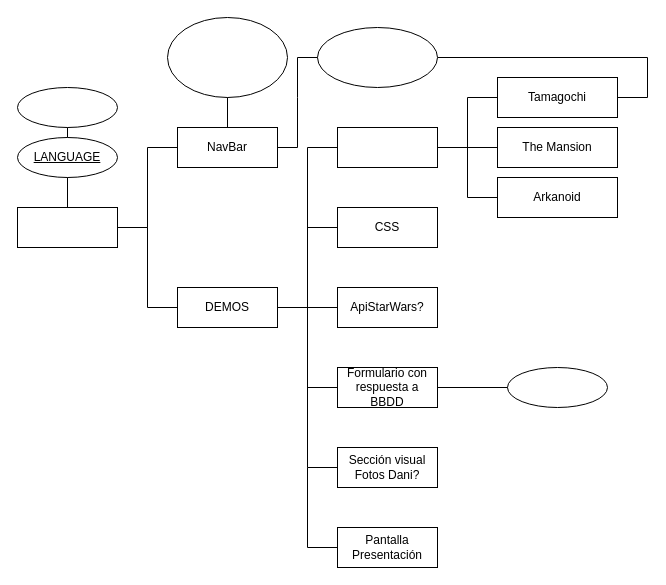
This 666x585 diagram has some shape labels left out. The centre of each missing label's shape, as x and y in pixels:
"conexión con BBDD" belongs at point 557,387.
"Iniciar Sesión y mostrar datos de BBDD" belongs at point 227,57.
"MAIN" belongs at point 67,227.
"MiniJuegos" belongs at point 387,147.
"NIGHT MODE" belongs at point 67,107.
"se puede mostrar en el navbar?" belongs at point 377,57.
